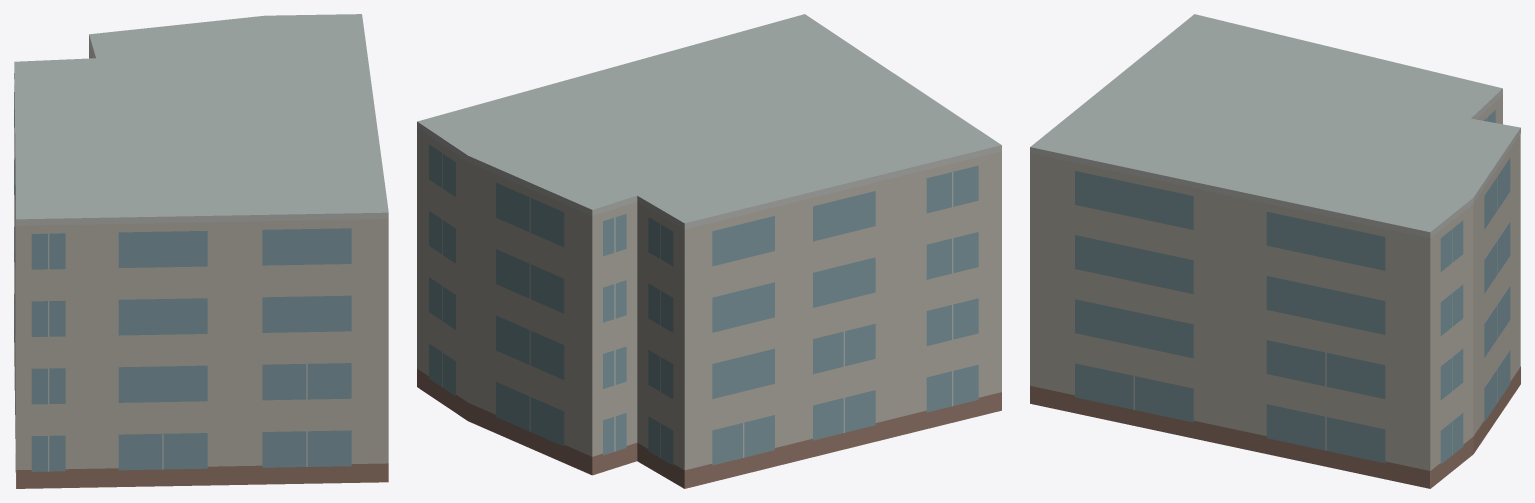
Rendered from survey-upis-32664323.glb.
The picture shows the model from 3 angles, left to right: view 1: azimuth 30°, elevation 25°; view 2: azimuth 150°, elevation 25°; view 3: azimuth 270°, elevation 25°; orthographic projection. The views are drawn at different scales.
Visible parts, largest first — view 1: survey-upis-32664323.tmp; view 2: survey-upis-32664323.tmp; view 3: survey-upis-32664323.tmp.
Boxes of the visible parts, <box> form: survey-upis-32664323.tmp: <box>14,14,388,488</box>; survey-upis-32664323.tmp: <box>417,14,1001,488</box>; survey-upis-32664323.tmp: <box>1030,14,1520,488</box>.
Bounding box in the file's own units: 18.98 × 10.4 × 18.03.
